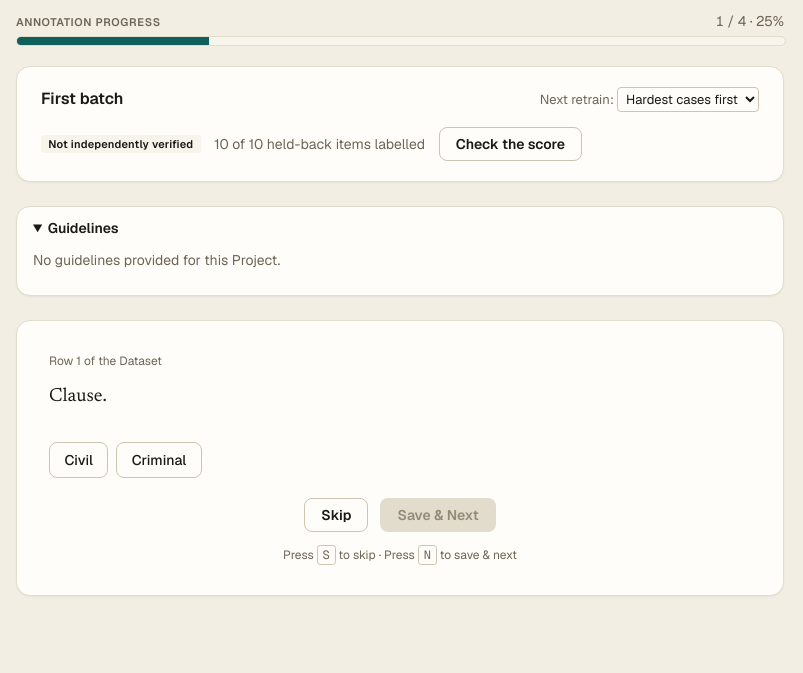
Scenario: the holdout › reports a check that never finishes instead of waiting for ever
Click the button "Check the score".
click(510, 144)  # box [439,127,582,161]
Wait 124000 ms
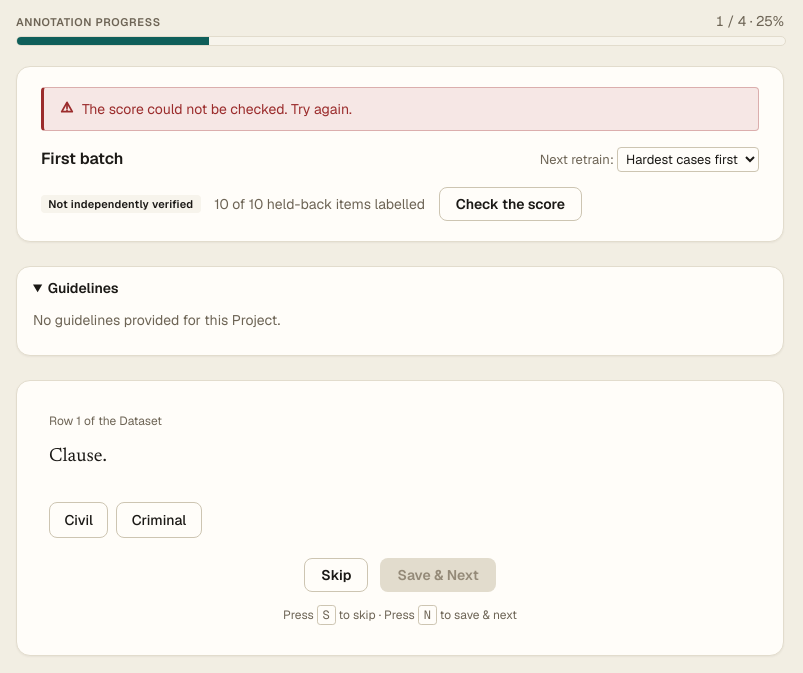
Expected: the text "The score could not be checked. Try again." is shown, [41,87,759,131]
